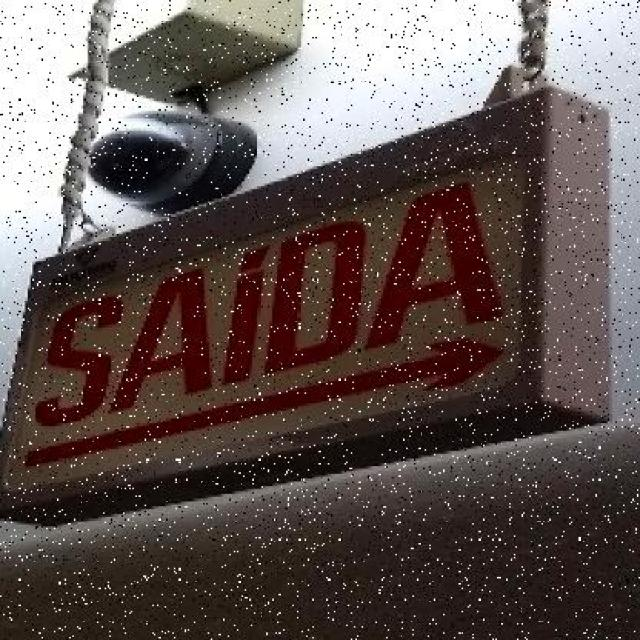emergency_exit: (1, 77, 612, 525)
